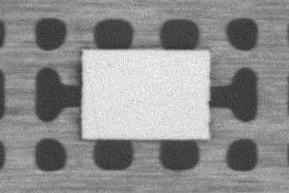DIE_INK: (107, 64, 113, 70)
